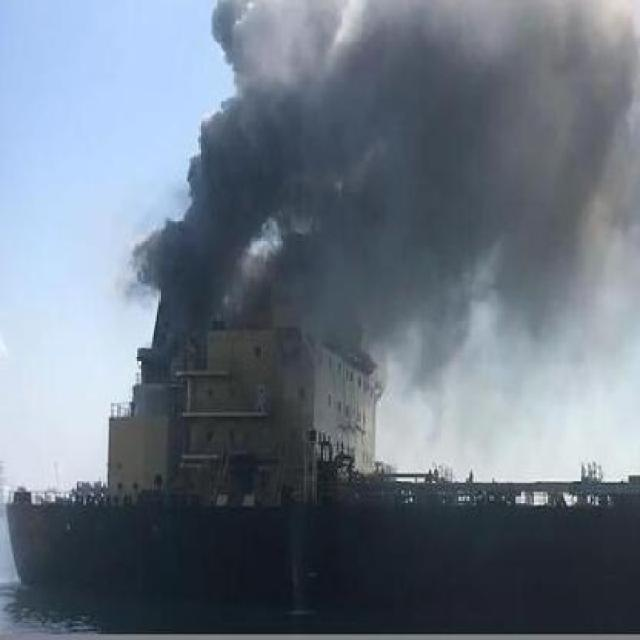Smoke: (155, 8, 640, 334)
